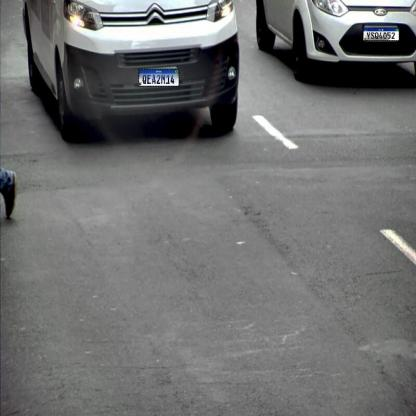PlacaM: (138, 68, 180, 86), (363, 28, 399, 41)
